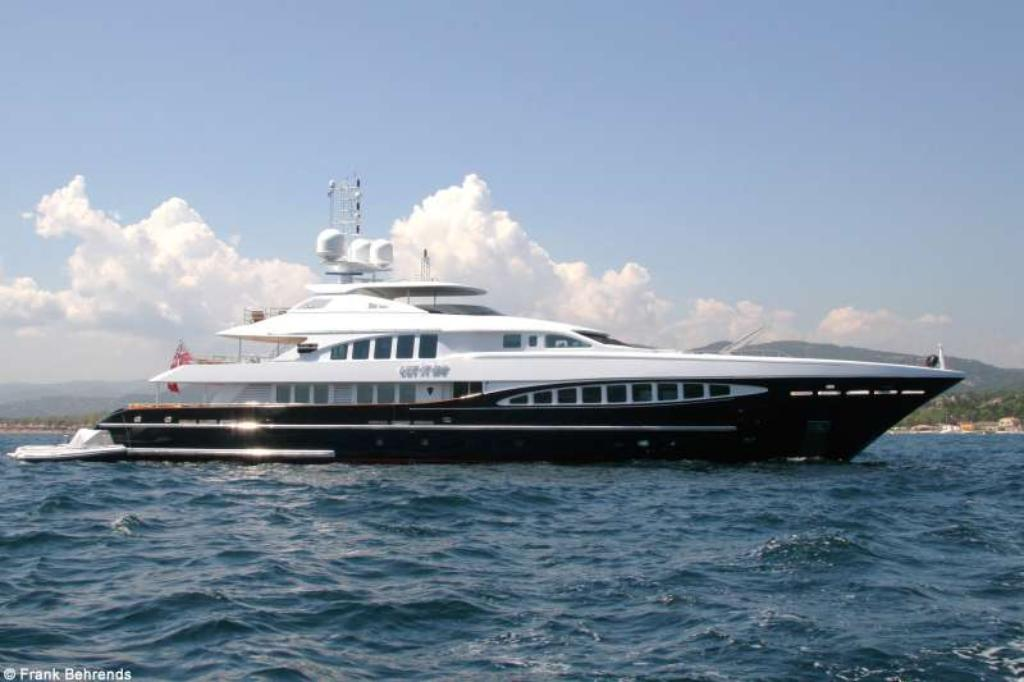PassengerShip: (68, 166, 966, 469)
